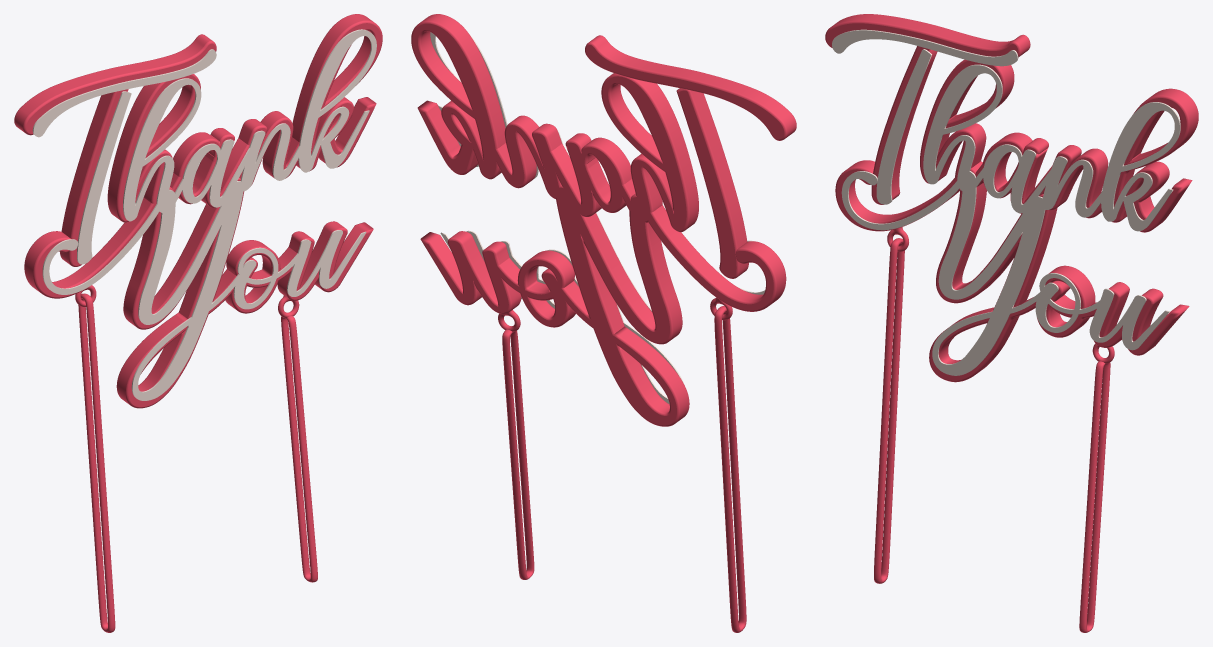
Rendered from topper-thankyou.glb.
3 renders of one model, left to right at view 1: azimuth 30°, elevation 25°; view 2: azimuth 150°, elevation 25°; view 3: azimuth 330°, elevation 25°, orthographic. The views are drawn at different scales.
Visible parts, largest first — view 1: Text.004; view 2: Text.004; view 3: Text.004.
Part boxes in pixels (box(x1,y1,x2,y2)): Text.004: box(14, 14, 382, 632); Text.004: box(411, 14, 796, 632); Text.004: box(825, 14, 1198, 632).
Size of the model in its own units: 3.46 by 5.08 by 0.495.
